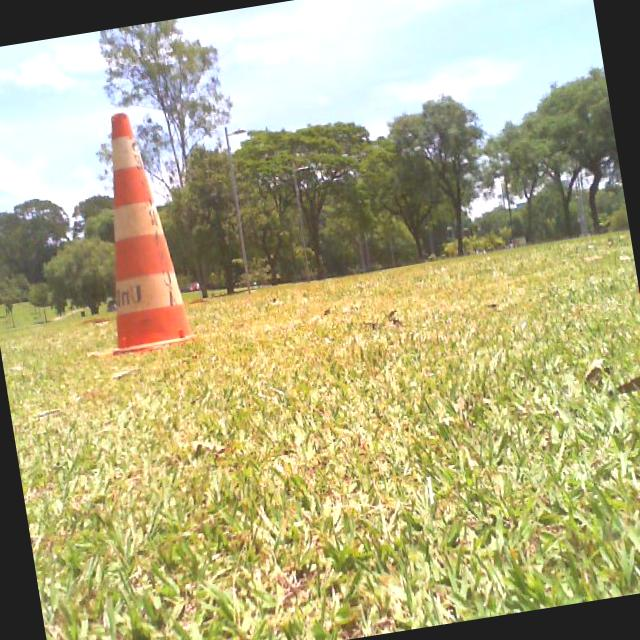Cone: (51, 104, 200, 360)
